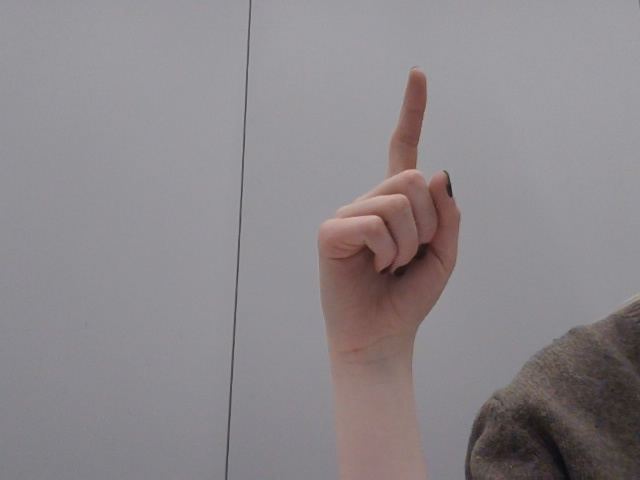up: (296, 54, 485, 383)
